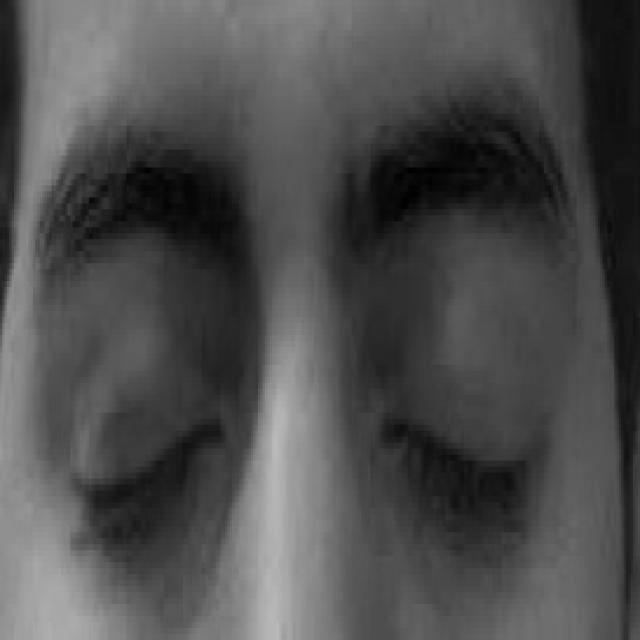real: (42, 184, 558, 617)
